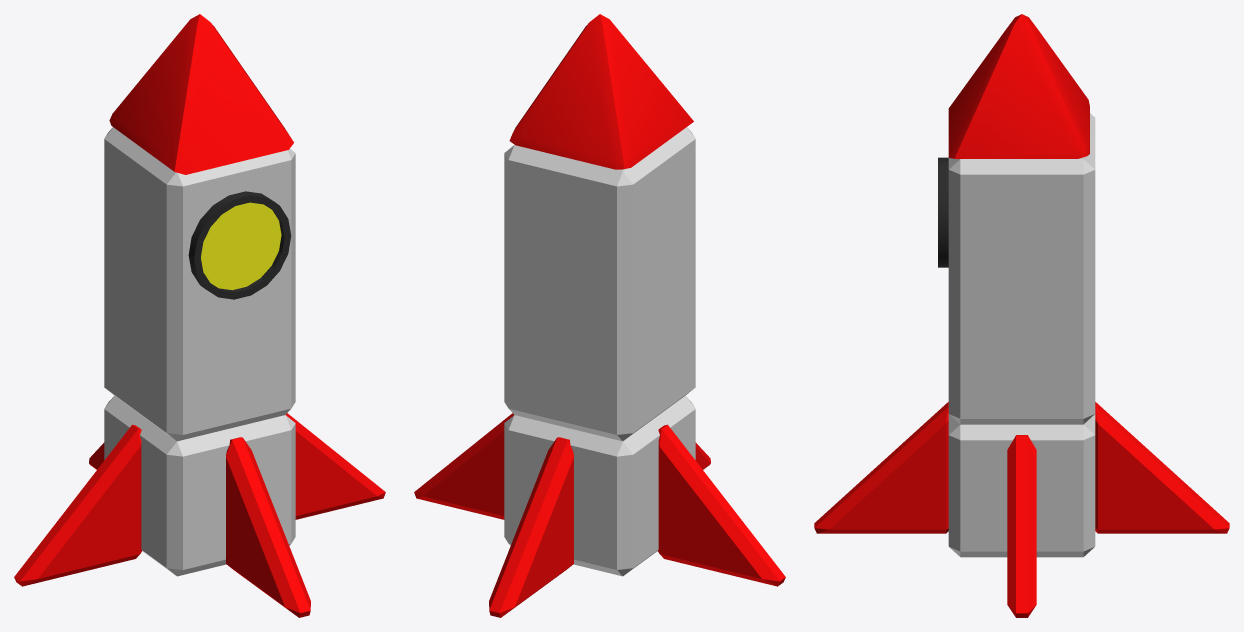
The model's file is Rocket.fbx.
3 renders of one model, left to right at view 1: azimuth 30°, elevation 25°; view 2: azimuth 150°, elevation 25°; view 3: azimuth 270°, elevation 25°, orthographic.
Visible parts, largest first — view 1: 위몸통, 날개 (×3), 아래몸통, 위꼬깔, 창문; view 2: 위몸통, 날개 (×3), 아래몸통, 위꼬깔; view 3: 위몸통, 날개 (×3), 아래몸통, 위꼬깔, 창문.
Boxes of the visible parts, x1,y1,x2,y2 form: 위몸통: [104, 127, 295, 441]; 날개 (×3): [14, 413, 385, 617]; 아래몸통: [104, 396, 295, 576]; 위꼬깔: [109, 14, 293, 174]; 창문: [188, 191, 291, 299]; 위몸통: [504, 127, 695, 441]; 날개 (×3): [414, 413, 785, 617]; 아래몸통: [504, 396, 695, 576]; 위꼬깔: [509, 14, 693, 169]; 위몸통: [948, 113, 1095, 424]; 날개 (×3): [814, 402, 1229, 617]; 아래몸통: [948, 414, 1095, 557]; 위꼬깔: [948, 14, 1089, 158]; 창문: [938, 157, 948, 267].
Size of the model in its own units: 70.88 by 97.44 by 70.88.
